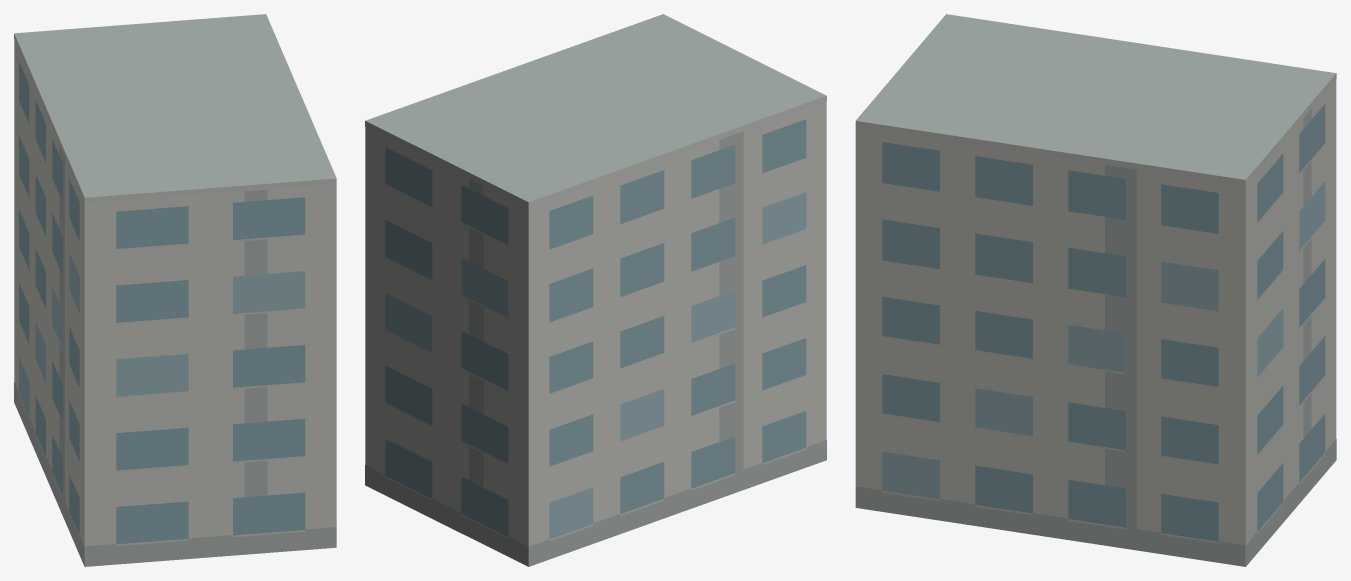
The model's file is residential-af5d518d-a9d5-425a-bb56-bb64c68831d0.glb.
3 views of the same model, side by side, from view 1: azimuth 30°, elevation 25°; view 2: azimuth 150°, elevation 25°; view 3: azimuth 270°, elevation 25° (orthographic). The views are drawn at different scales.
Parts seen in each view (by area): view 1: residential-af5d518d-a9d5-425a-bb56-bb64c68831d0.tmp; view 2: residential-af5d518d-a9d5-425a-bb56-bb64c68831d0.tmp; view 3: residential-af5d518d-a9d5-425a-bb56-bb64c68831d0.tmp.
Boxes of the visible parts, x1,y1,x2,y2 form: residential-af5d518d-a9d5-425a-bb56-bb64c68831d0.tmp: [14, 14, 336, 566]; residential-af5d518d-a9d5-425a-bb56-bb64c68831d0.tmp: [365, 14, 826, 566]; residential-af5d518d-a9d5-425a-bb56-bb64c68831d0.tmp: [855, 14, 1336, 566].
Bounding box in the file's own units: 14.03 × 15.25 × 17.19.
